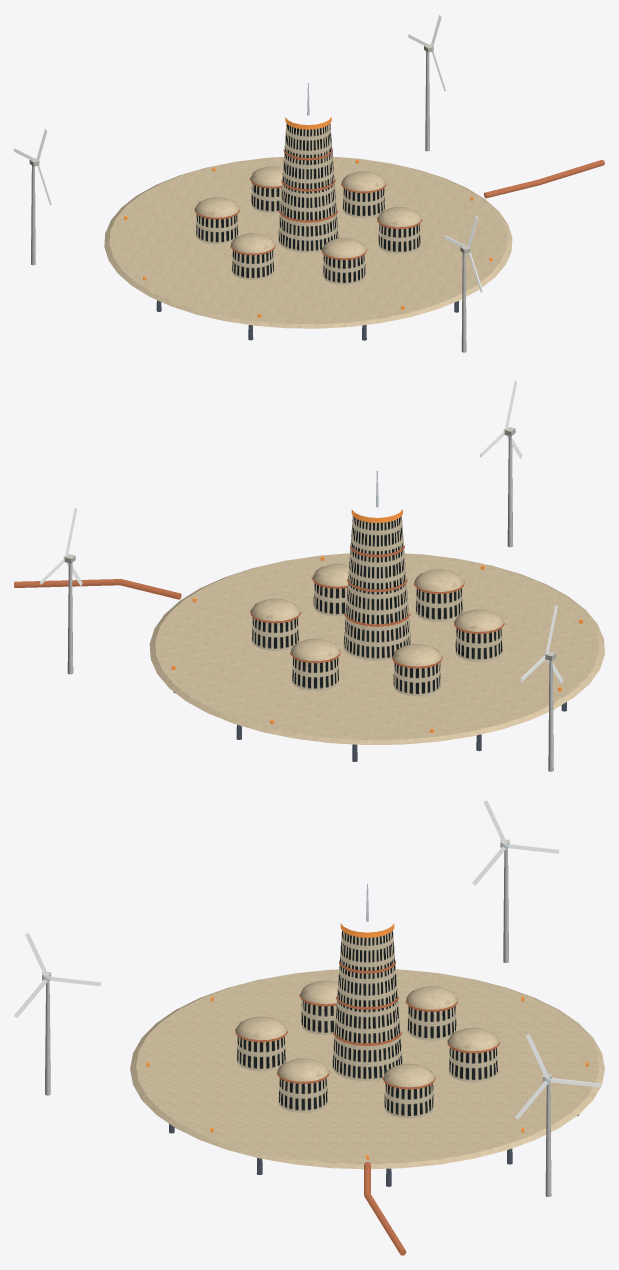
Rendered from titan_stilt_town.glb.
The picture shows the model from 3 angles, top to bottom: view 1: azimuth 30°, elevation 25°; view 2: azimuth 150°, elevation 25°; view 3: azimuth 270°, elevation 25°; orthographic projection. The views are drawn at different scales.
Parts seen in each view (by area): view 1: titan_stilt_town_LOD0; view 2: titan_stilt_town_LOD0; view 3: titan_stilt_town_LOD0.
Part boxes in pixels (<box>): titan_stilt_town_LOD0: <box>14,14,604,352</box>; titan_stilt_town_LOD0: <box>14,381,604,771</box>; titan_stilt_town_LOD0: <box>14,800,604,1255</box>.
Size of what is drawn, in the model's own units: 119 by 39.5 by 99.55.
3 materials, 3 textured.
